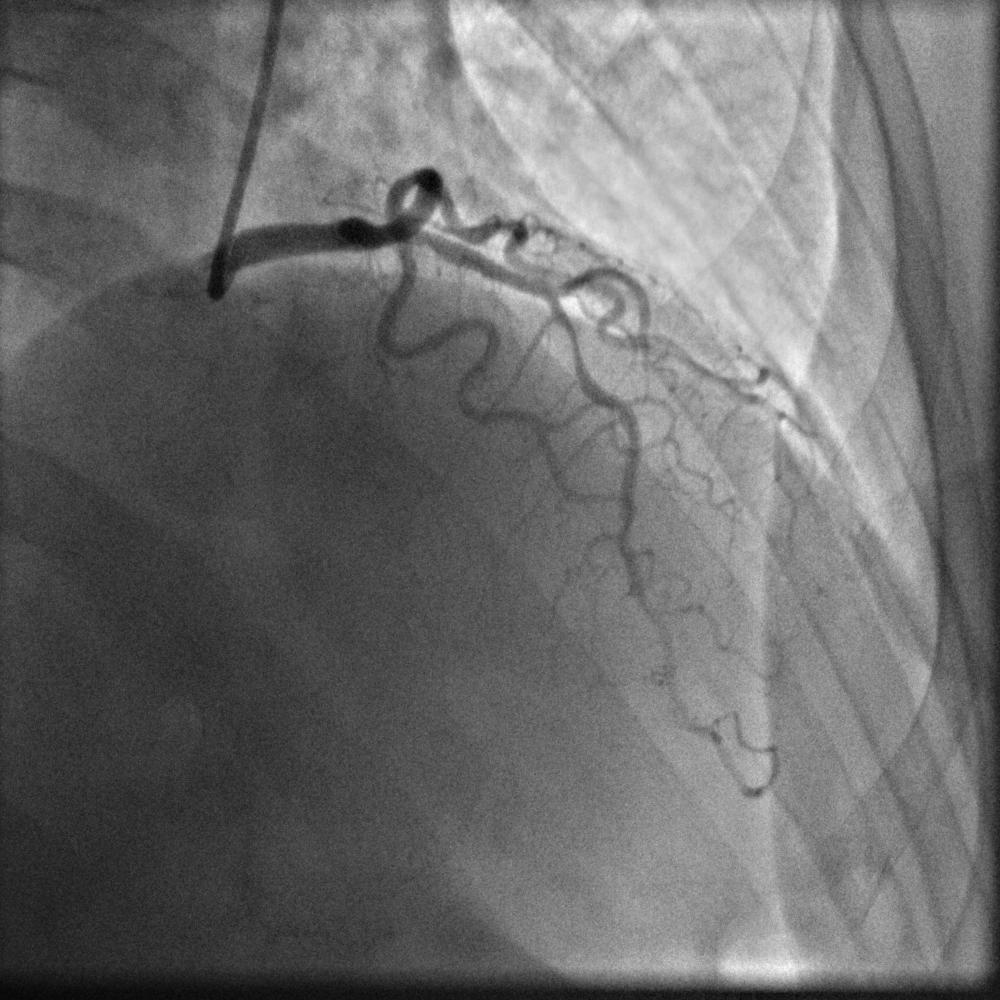Stenosis: (553, 313, 590, 387)
